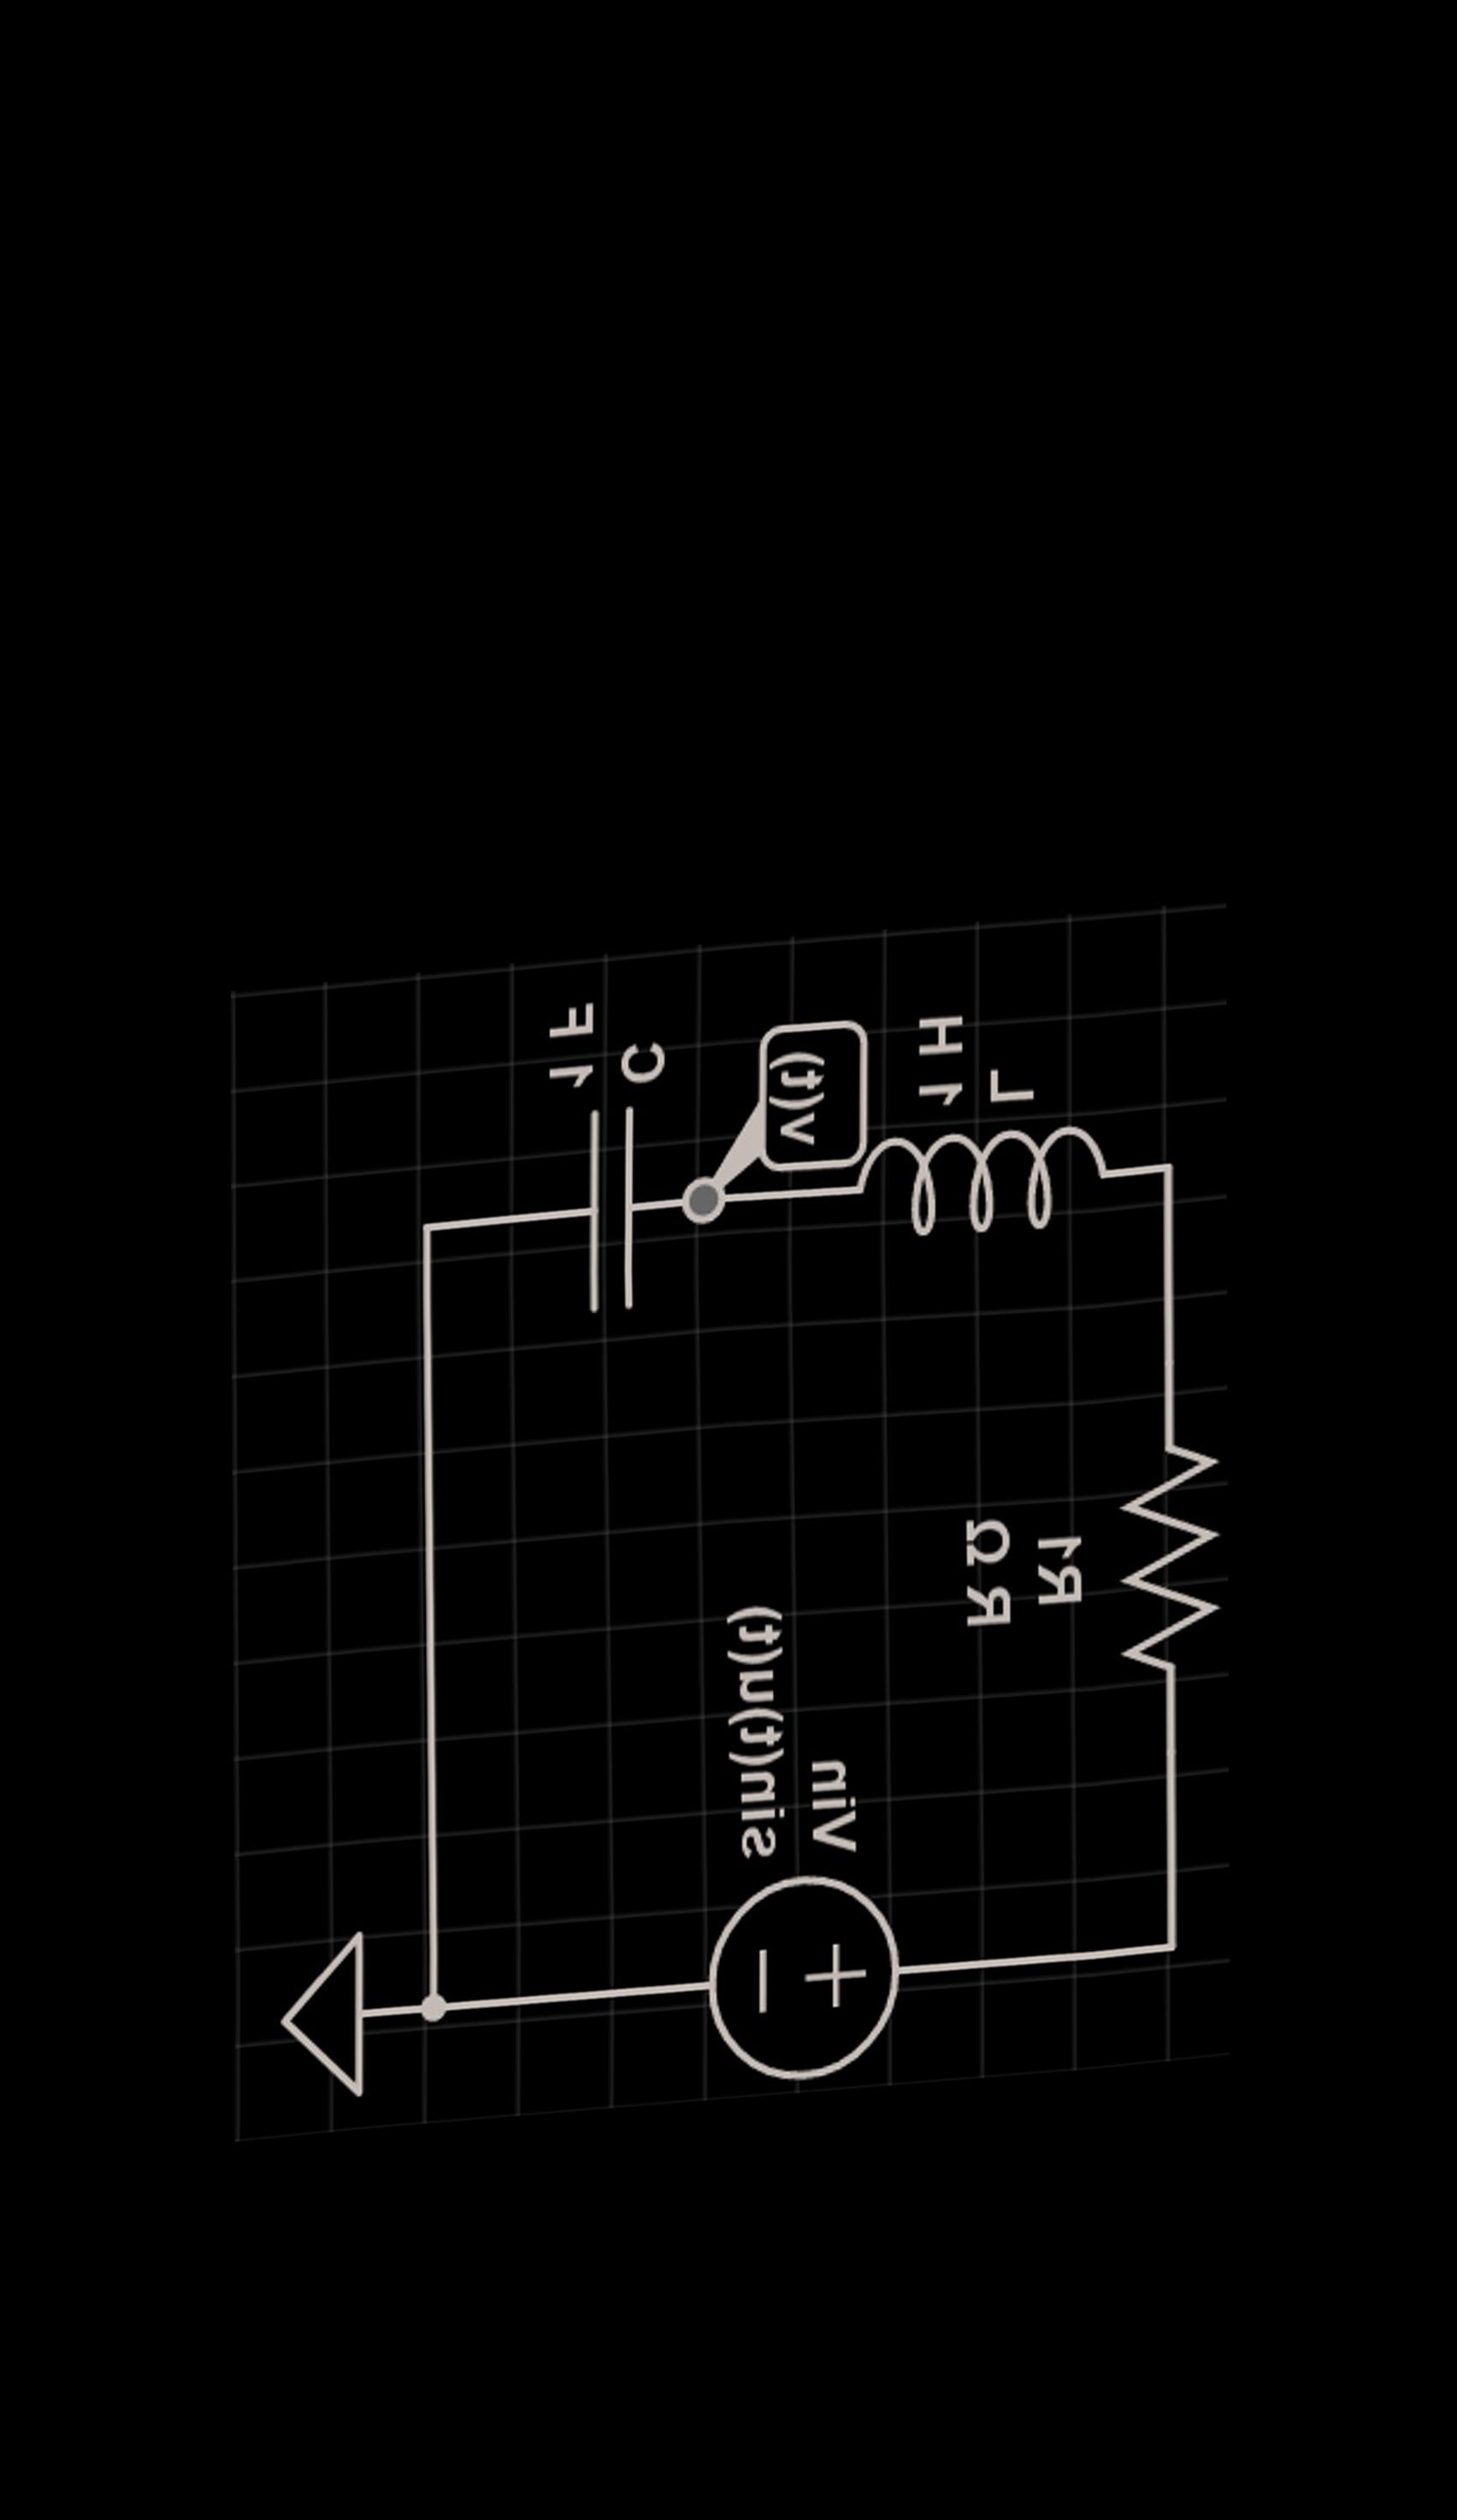Battery: (631, 1835, 959, 2130)
